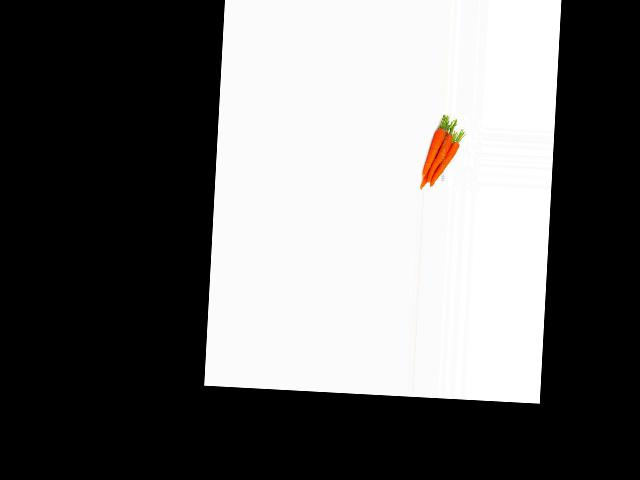carrot: (417, 123, 449, 182)
